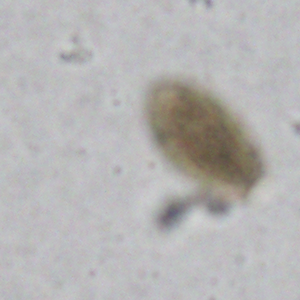Fasciola_hepatica_egg: (147, 74, 265, 189)
